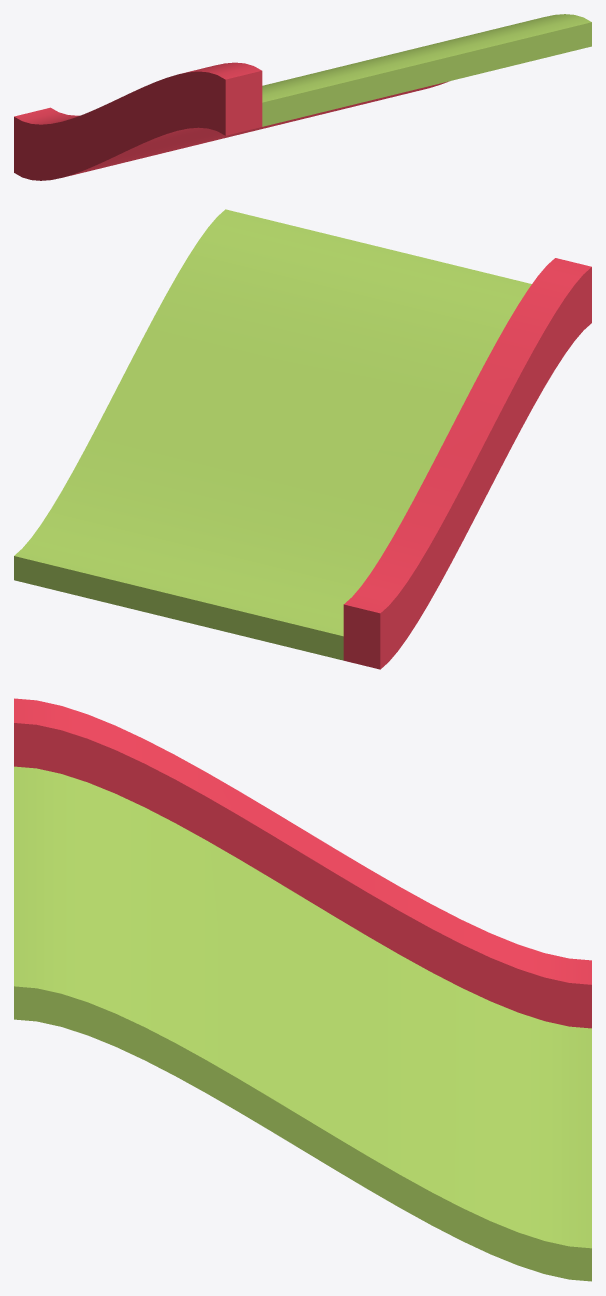
Rendered from rampSide.dae.
3 views of the same model, one above another, from view 1: azimuth 30°, elevation 25°; view 2: azimuth 150°, elevation 25°; view 3: azimuth 270°, elevation 25° (orthographic). The views are drawn at different scales.
Visible parts, largest first — view 1: rampSide; view 2: rampSide; view 3: rampSide.
Boxes of the visible parts, left/top/right/bottom form: rampSide: left=14, top=14, right=591, bottom=180; rampSide: left=14, top=209, right=591, bottom=669; rampSide: left=14, top=698, right=591, bottom=1281.
Bounding box in the file's own units: 0.9999 × 0.6467 × 0.9999.
